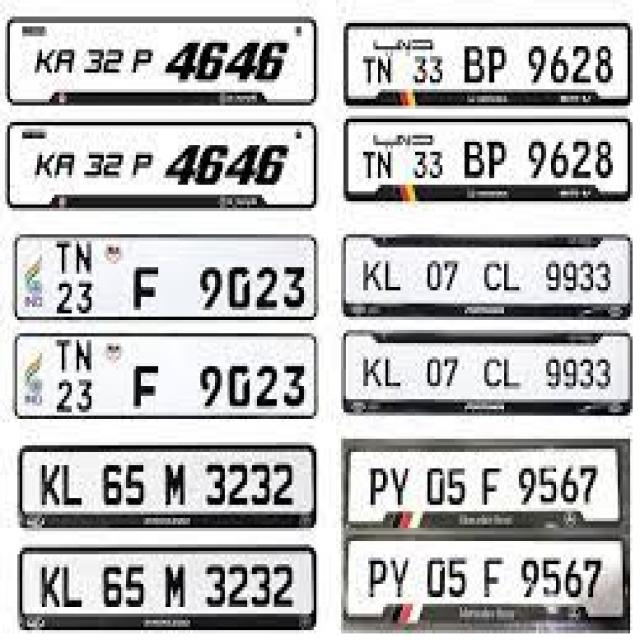number_plate: (349, 442, 632, 528), (346, 538, 626, 624), (9, 125, 319, 202), (18, 242, 320, 318), (9, 24, 314, 99), (18, 453, 311, 530), (344, 122, 625, 199), (13, 343, 316, 412), (344, 236, 630, 308), (347, 27, 630, 99), (18, 554, 314, 622)
